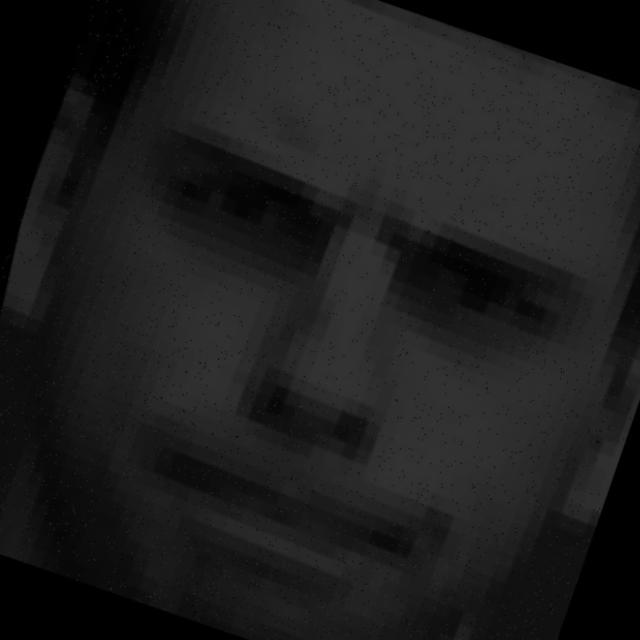Disgust: (51, 80, 640, 639)
